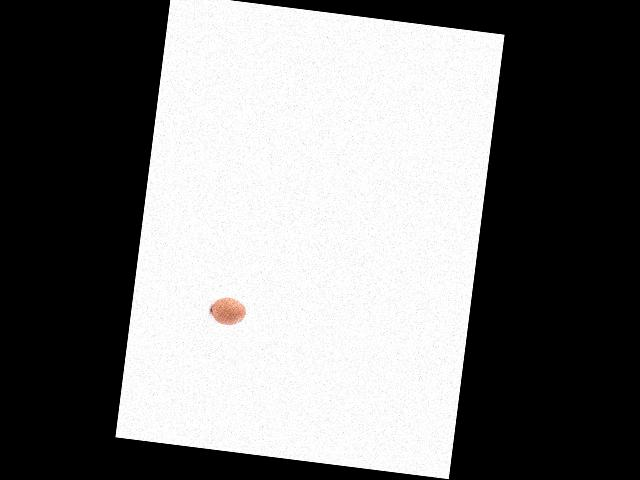egg: (209, 296, 247, 328)
